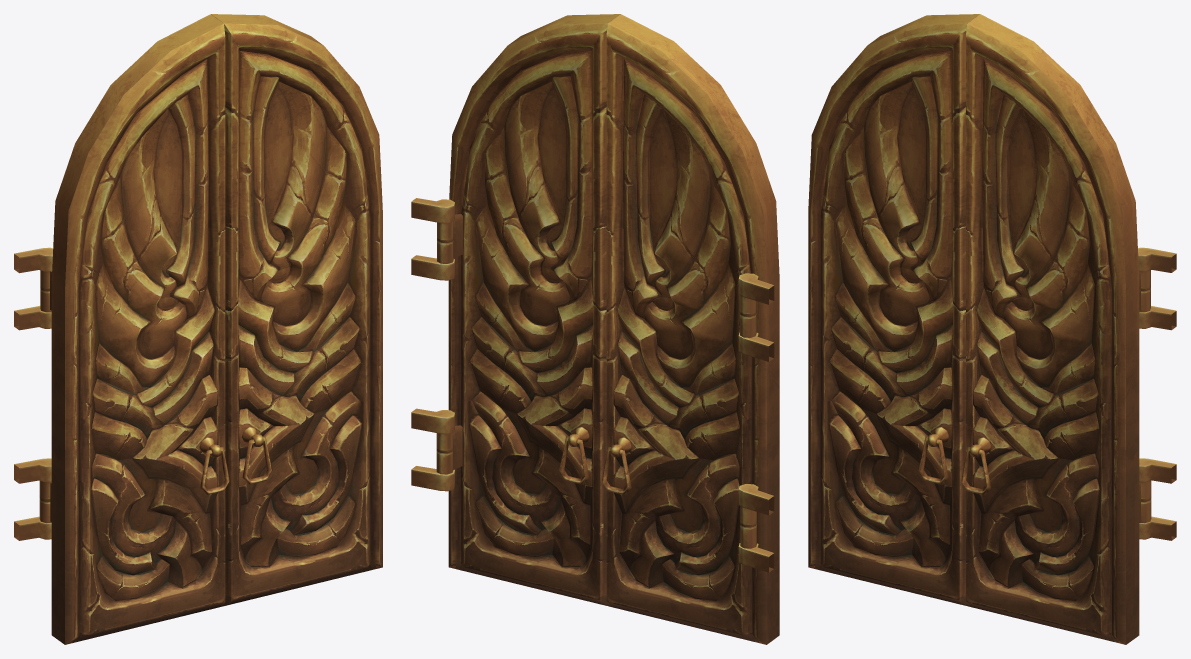
Rendered from Door_02_Setup.fbx.
3 views of the same model, side by side, from view 1: azimuth 30°, elevation 25°; view 2: azimuth 150°, elevation 25°; view 3: azimuth 330°, elevation 25° (orthographic).
Parts seen in each view (by area): view 1: Door_R_01, Door_L_01, Hinge_Bronze_02, Doorhandle_L_02, Doorhandle_R_02; view 2: Door_R_01, Door_L_01, Hinge_Bronze_02, Doorhandle_L_01, Doorhandle_R_01; view 3: Door_L_01, Door_R_01, Hinge_Bronze_02, Doorhandle_R_02, Doorhandle_L_02.
Boxes of the visible parts, x1=… form: Door_R_01: x1=39, y1=14, x2=225, y2=644; Door_L_01: x1=211, y1=14, x2=382, y2=605; Hinge_Bronze_02: x1=14, y1=247, x2=53, y2=540; Doorhandle_L_02: x1=242, y1=436, x2=272, y2=484; Doorhandle_R_02: x1=200, y1=447, x2=229, y2=495; Door_R_01: x1=606, y1=14, x2=779, y2=644; Door_L_01: x1=436, y1=14, x2=620, y2=605; Hinge_Bronze_02: x1=411, y1=198, x2=774, y2=572; Doorhandle_L_01: x1=559, y1=436, x2=589, y2=484; Doorhandle_R_01: x1=601, y1=446, x2=631, y2=495; Door_L_01: x1=966, y1=14, x2=1151, y2=644; Door_R_01: x1=808, y1=14, x2=979, y2=605; Hinge_Bronze_02: x1=1138, y1=247, x2=1176, y2=540; Doorhandle_R_02: x1=919, y1=436, x2=948, y2=484; Doorhandle_L_02: x1=961, y1=446, x2=990, y2=495.
Size of the model in its own units: 3.1 by 4.81 by 0.6984.
